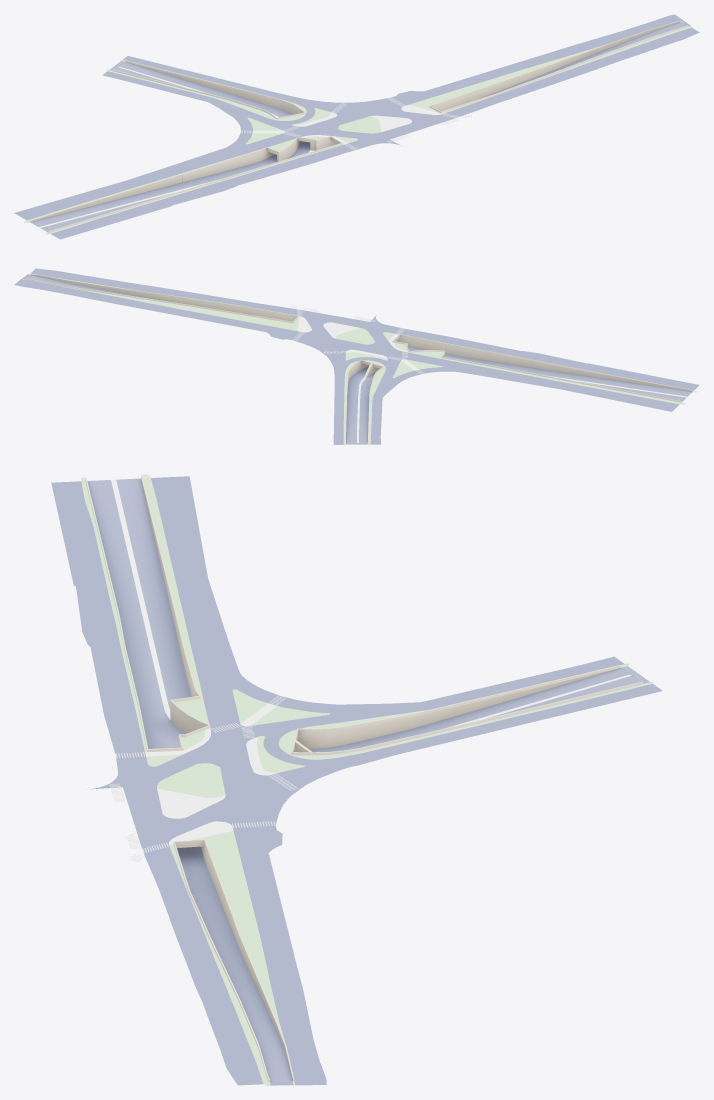
The model's file is Raymbek-Suiyumbai-tinted.glb.
3 views of the same model, one above another, from view 1: azimuth 30°, elevation 25°; view 2: azimuth 150°, elevation 25°; view 3: azimuth 270°, elevation 25° (orthographic). The views are drawn at different scales.
Visible parts, largest first — view 1: group_6, group_3.001, group_4.006, group_5.008; view 2: group_6, group_3.001, group_4.006, group_5.008; view 3: group_6, group_4.006, group_3.001, group_5.008.
Boxes of the visible parts, x1,y1,x2,y2 form: group_6: (14,14,699,239); group_3.001: (24,20,687,232); group_4.006: (27,26,691,233); group_5.008: (39,21,683,227); group_6: (14,268,699,444); group_3.001: (25,273,692,442); group_4.006: (28,273,693,445); group_5.008: (23,279,687,442); group_6: (51,476,662,1085); group_4.006: (81,478,653,1085); group_3.001: (85,474,643,1082); group_5.008: (111,479,631,1085).
Bounding box in the file's own units: 522 × 8 × 220.
5 materials, 2 textured.
